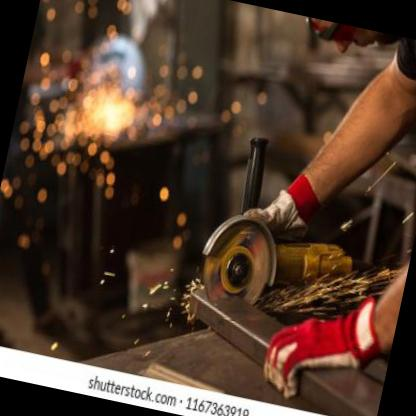Gloves: (258, 278, 391, 416), (240, 163, 326, 242)
